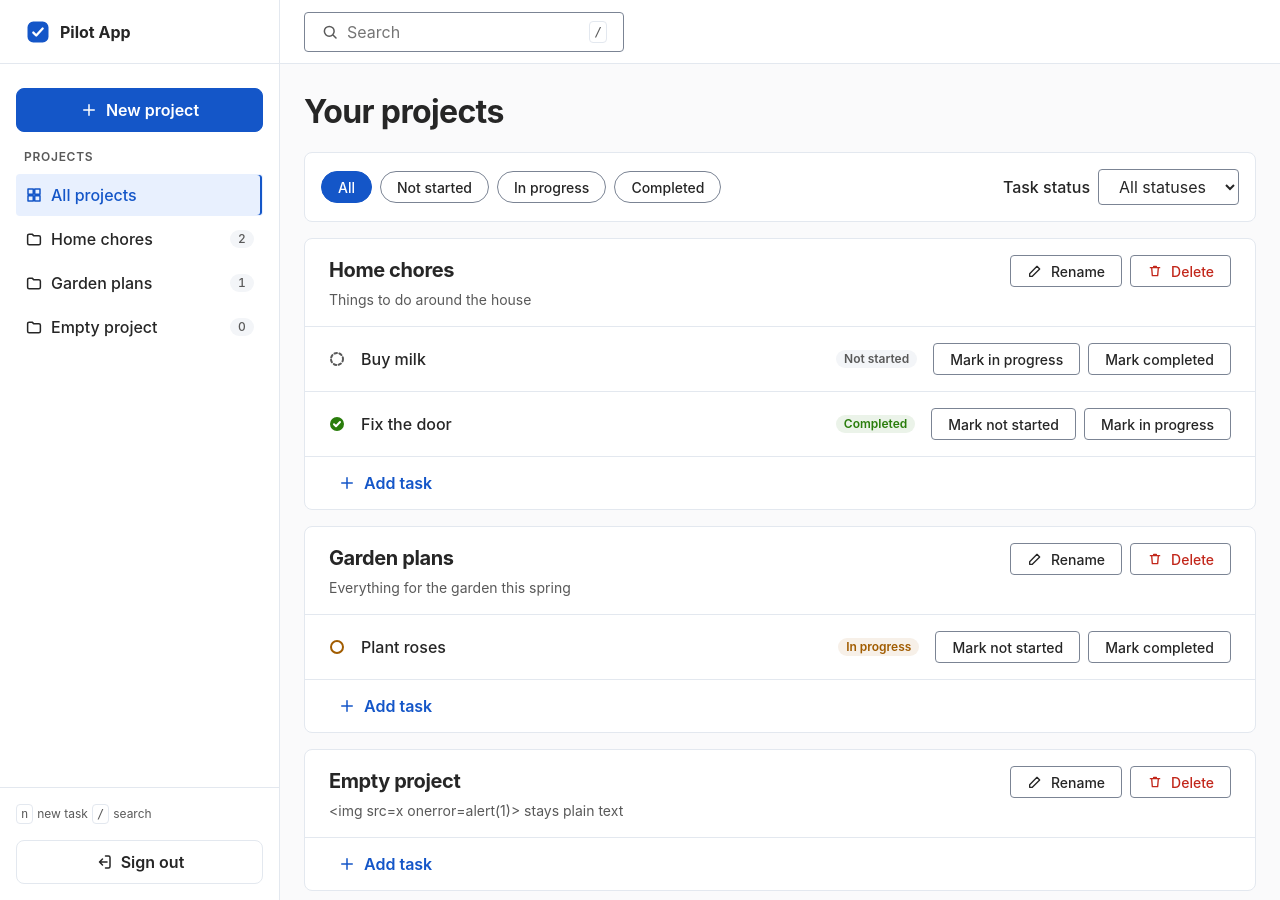
it: Dashboard › a task in progress is completed with one click
Click the button with aria-label "Mark Plant roses completed".
click(1160, 647)  # box [1088,631,1231,663]
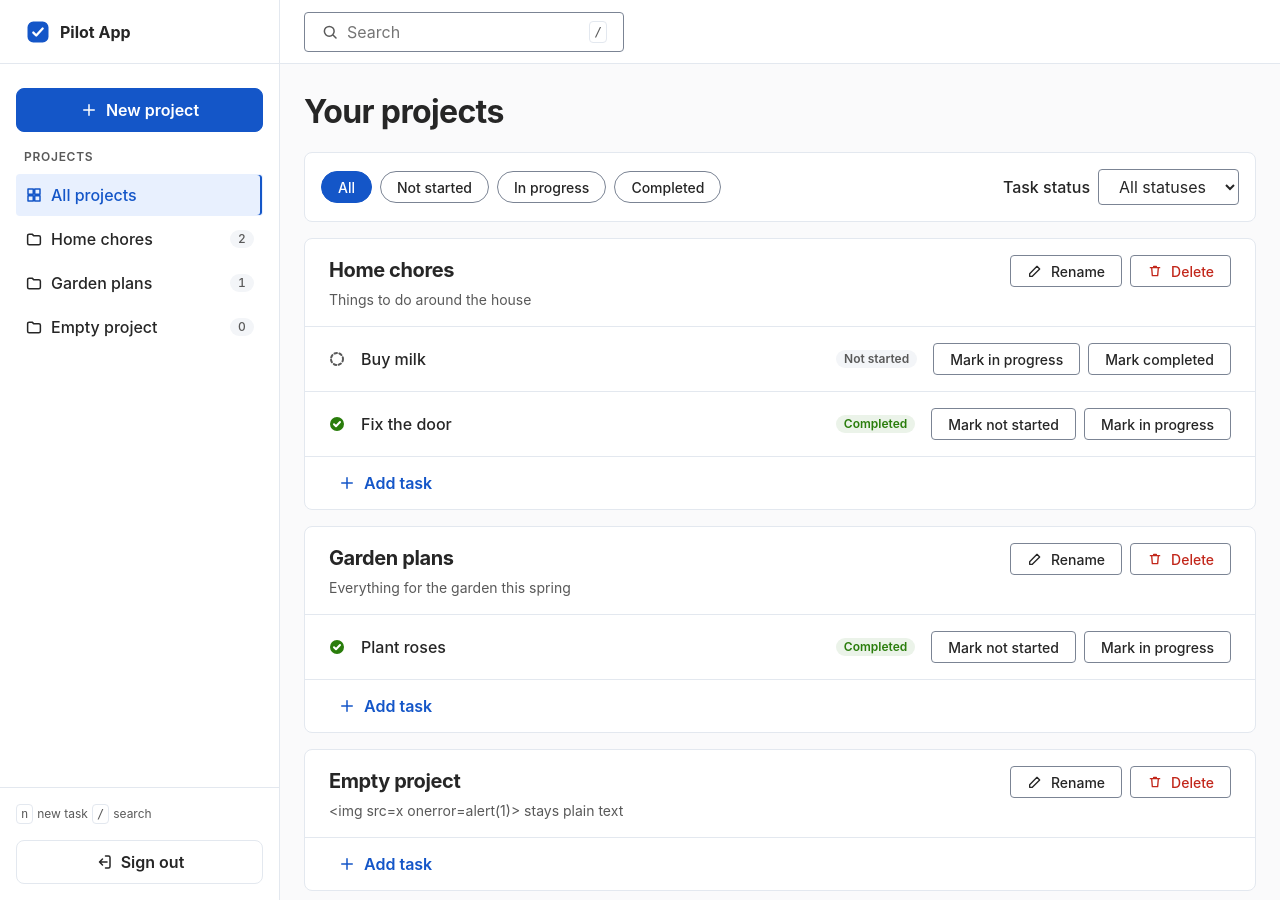
Check: the text "Completed" in the row of "Plant roses" is shown, box [844,639,907,654]
